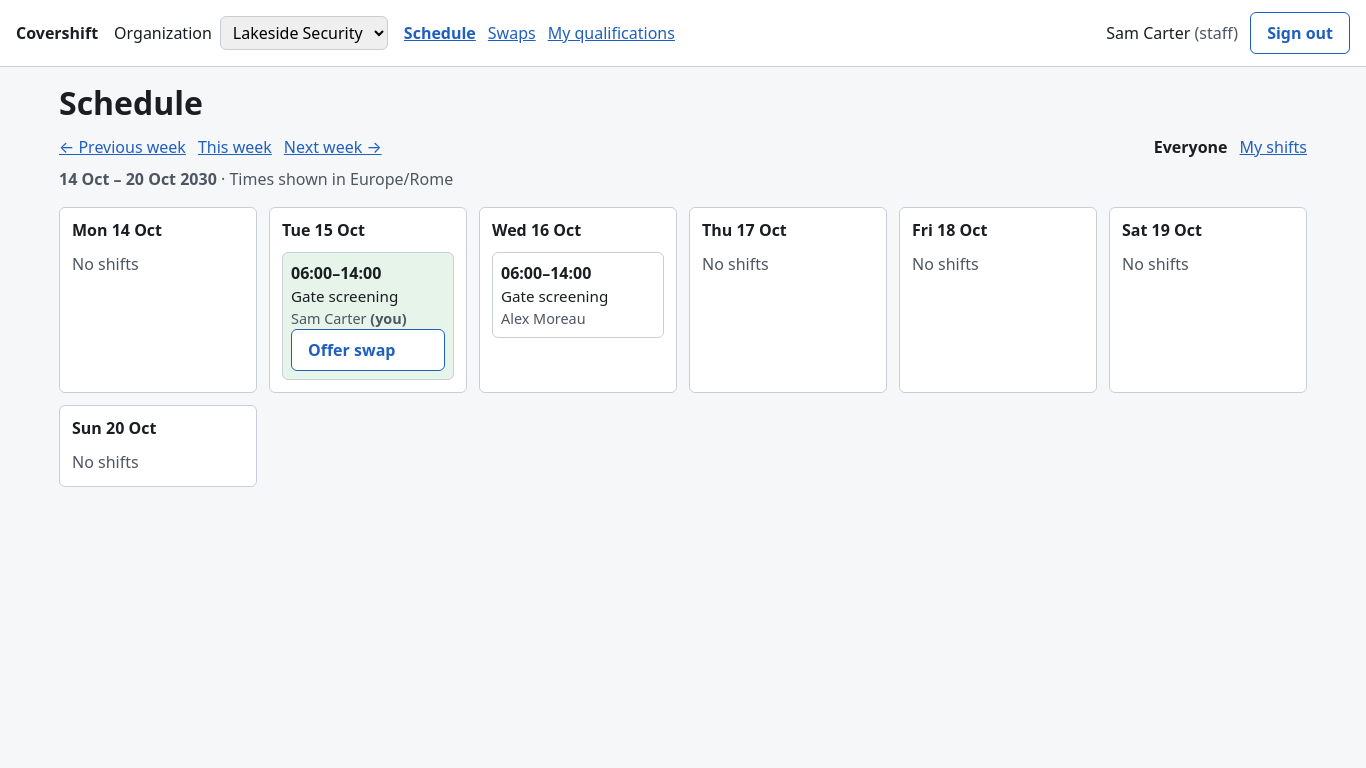
Test: offering a shift › a 409 SWAP_ALREADY_ACTIVE explains itself inside the dialog
The image size is (1366, 768).
Click the button with aria-label "Offer swap: Gate screening". click: click(368, 350)
box: top-left (291, 329), bottom-right (445, 371)
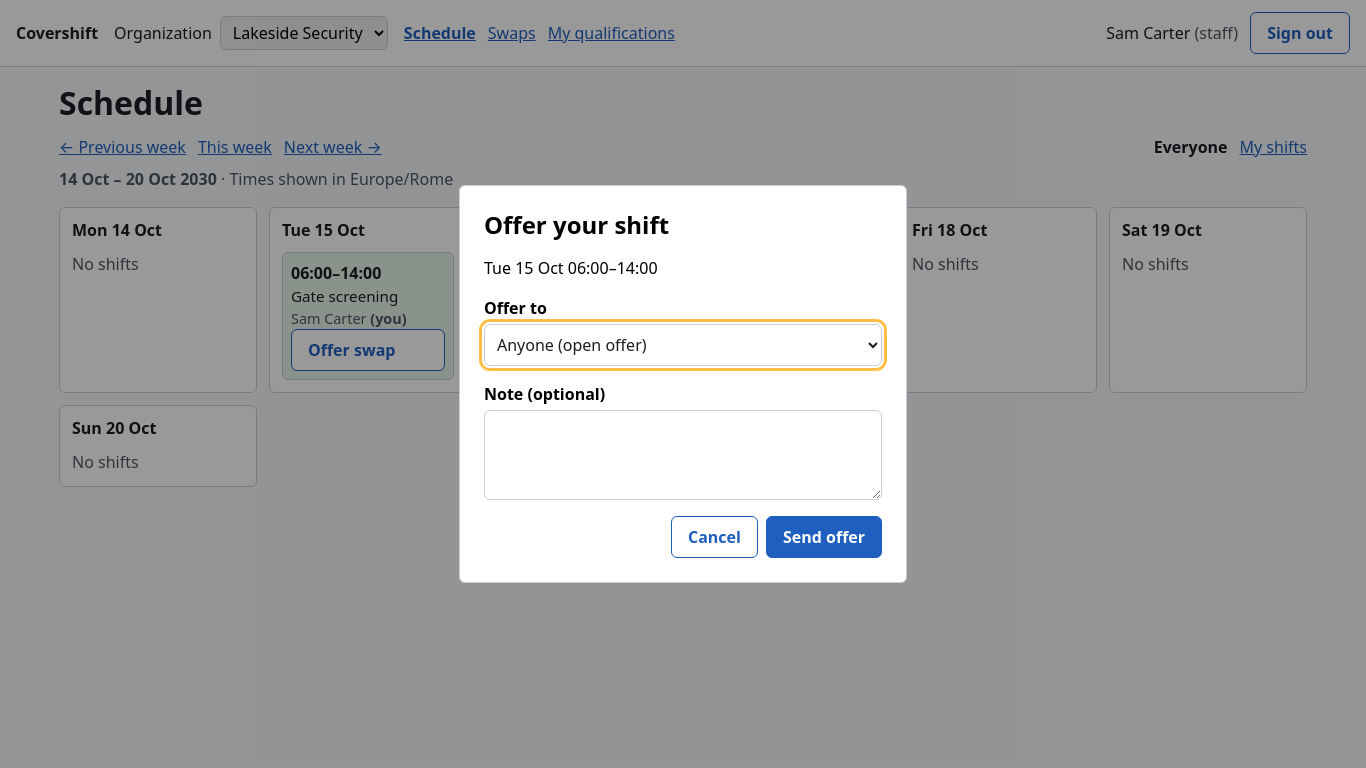
Click the button "Send offer". click: click(824, 537)
box: top-left (766, 516), bottom-right (882, 558)
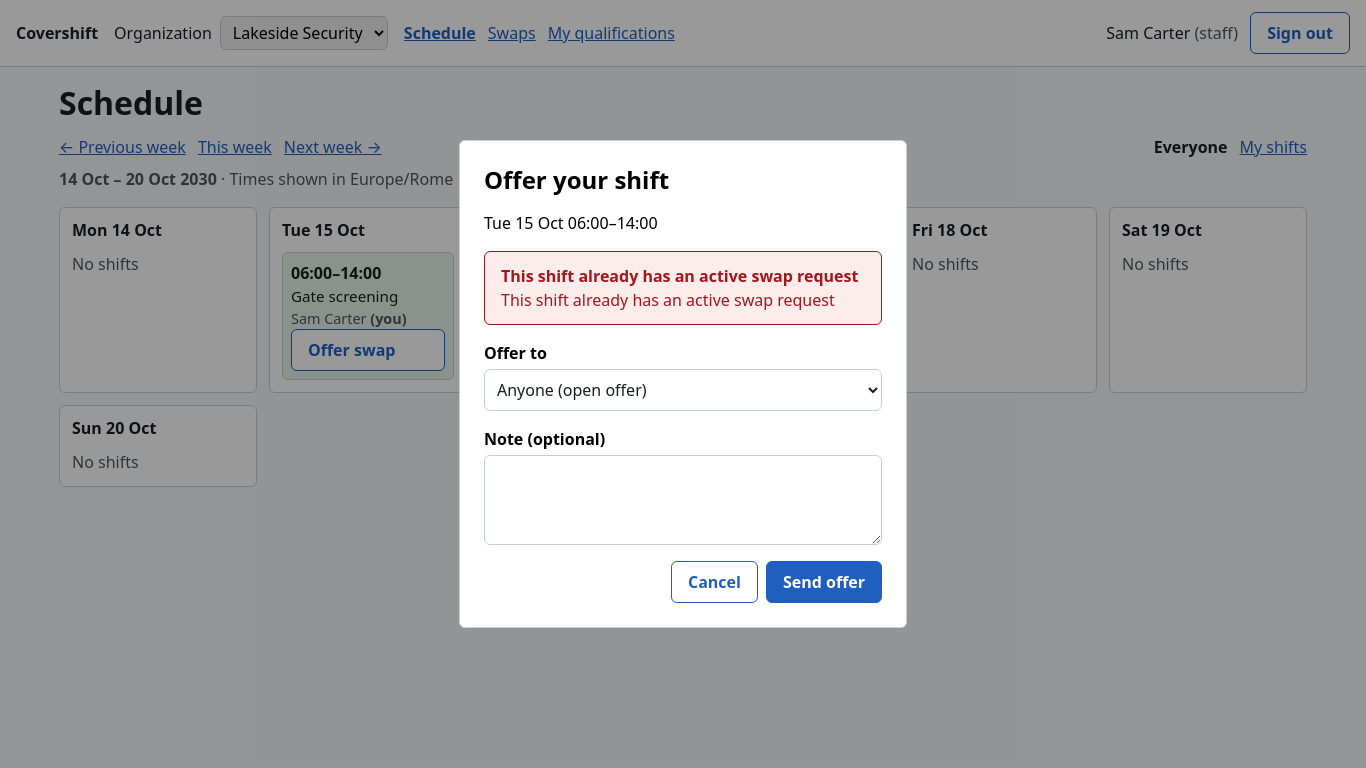
Result: the dialog is shown at top-left (459, 140), bottom-right (907, 628)
Result: the message shows "This shift already has an active swap request" at top-left (501, 265), bottom-right (858, 287)
